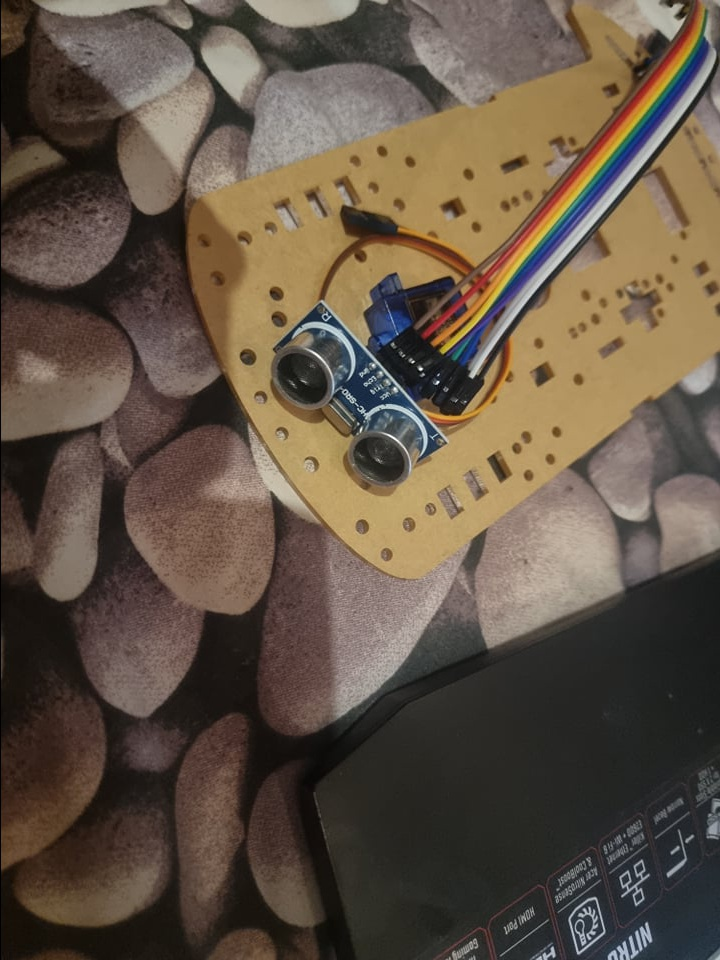SENSOR: (265, 299, 440, 493)
